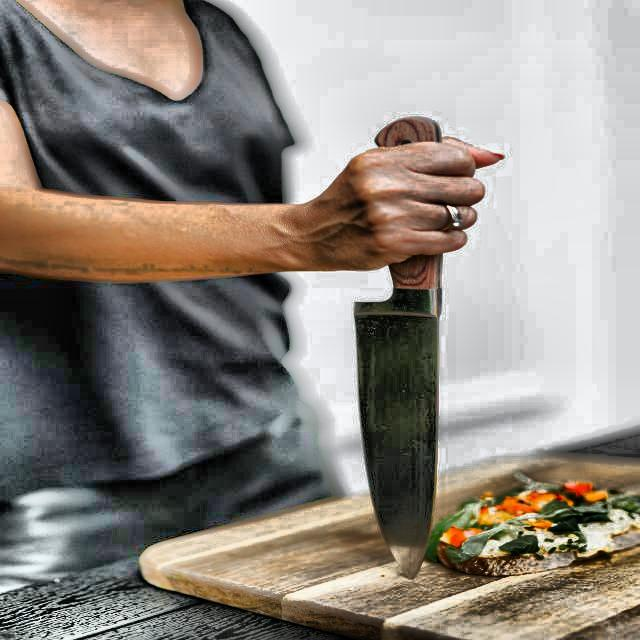knife: (346, 106, 458, 582)
